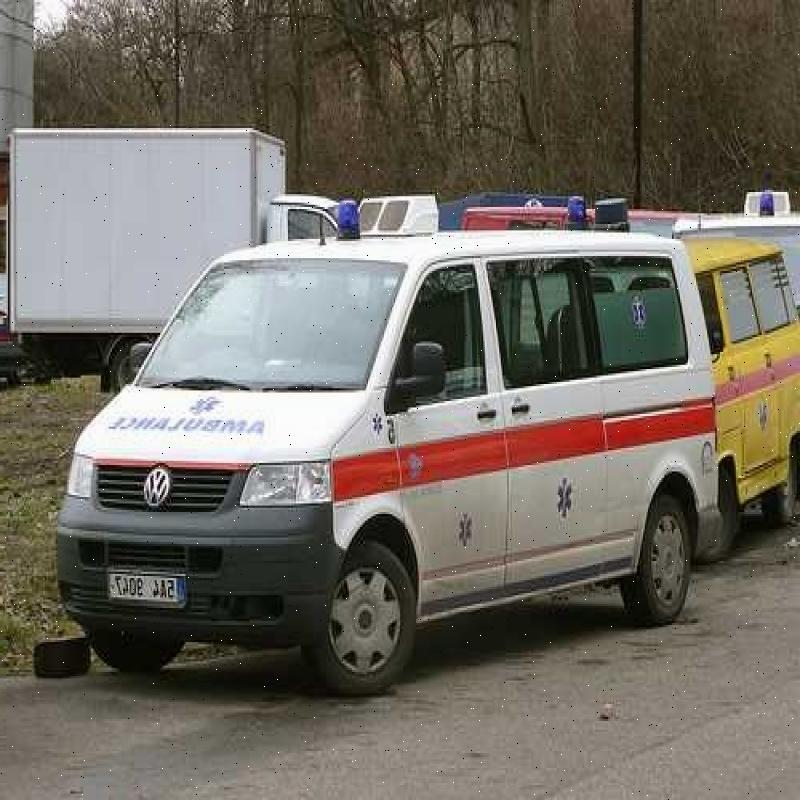AmbulanceSiren: (325, 189, 393, 248)
